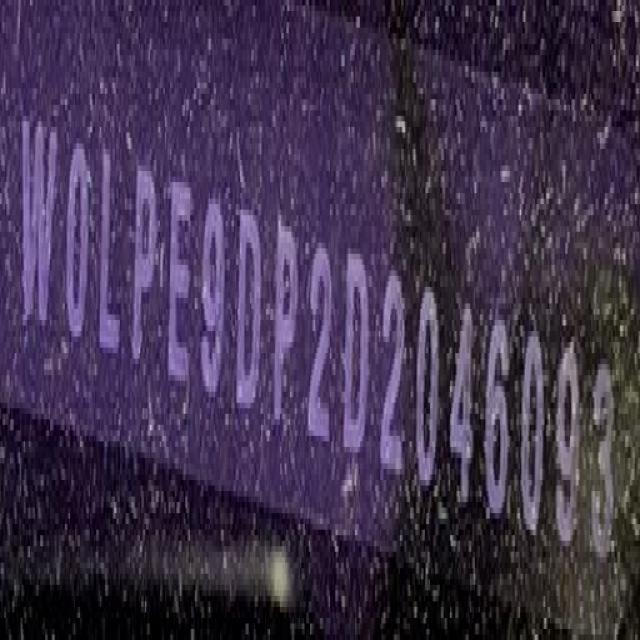0: (415, 268, 442, 506), (64, 141, 90, 362), (521, 327, 548, 533)
2: (306, 224, 333, 462), (380, 260, 407, 484)
3: (588, 358, 619, 566)
4: (449, 298, 477, 507)
6: (484, 319, 510, 527)
9: (552, 351, 584, 556), (200, 198, 228, 421)
D: (234, 194, 262, 423), (342, 237, 369, 470)
E: (166, 160, 194, 394)
L: (97, 145, 124, 360)
P: (269, 219, 300, 439), (128, 157, 158, 370)
W: (19, 112, 59, 331)
